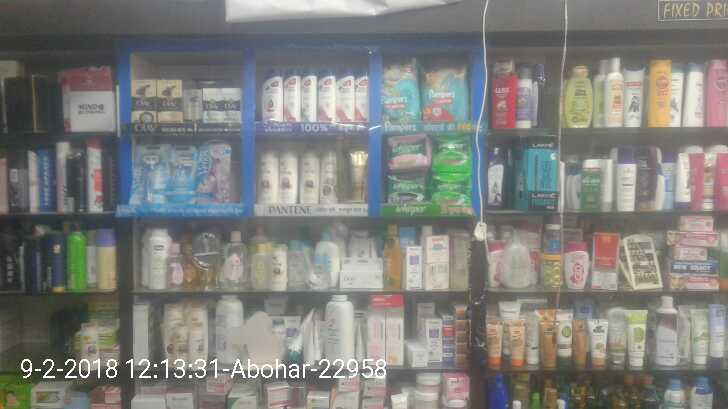venus: (196, 138, 230, 207), (131, 145, 169, 206), (169, 145, 196, 207)
